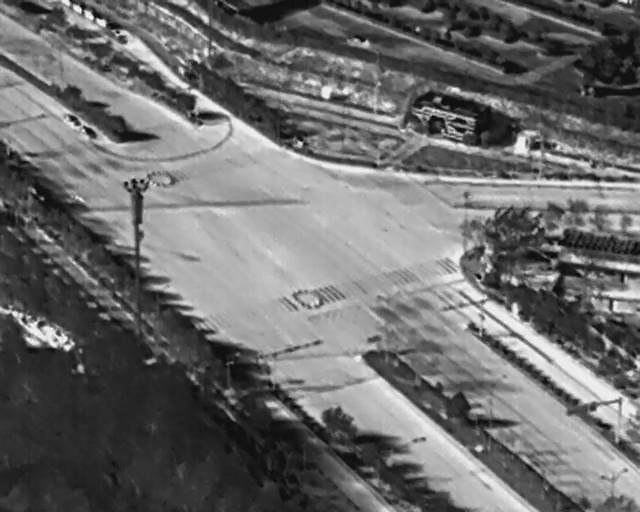Car: (60, 107, 84, 131), (81, 124, 98, 141)
